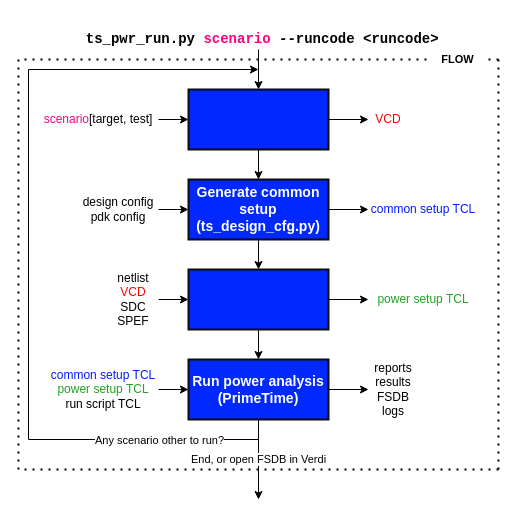
The diagram is 517 pixels wide and 525 high, and some of its shapes have lost their labels. The box of each missing label's shape, as (x1, y1, x2, y2) in pixels:
Generate power setup: (187, 268, 329, 330)
Run simulation (ts_sim_run.py): (187, 88, 329, 150)
